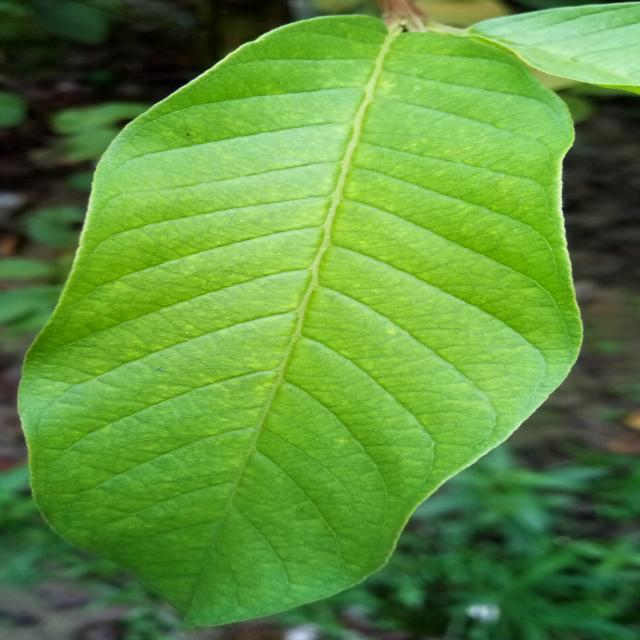Disease Free: (20, 16, 582, 625)
